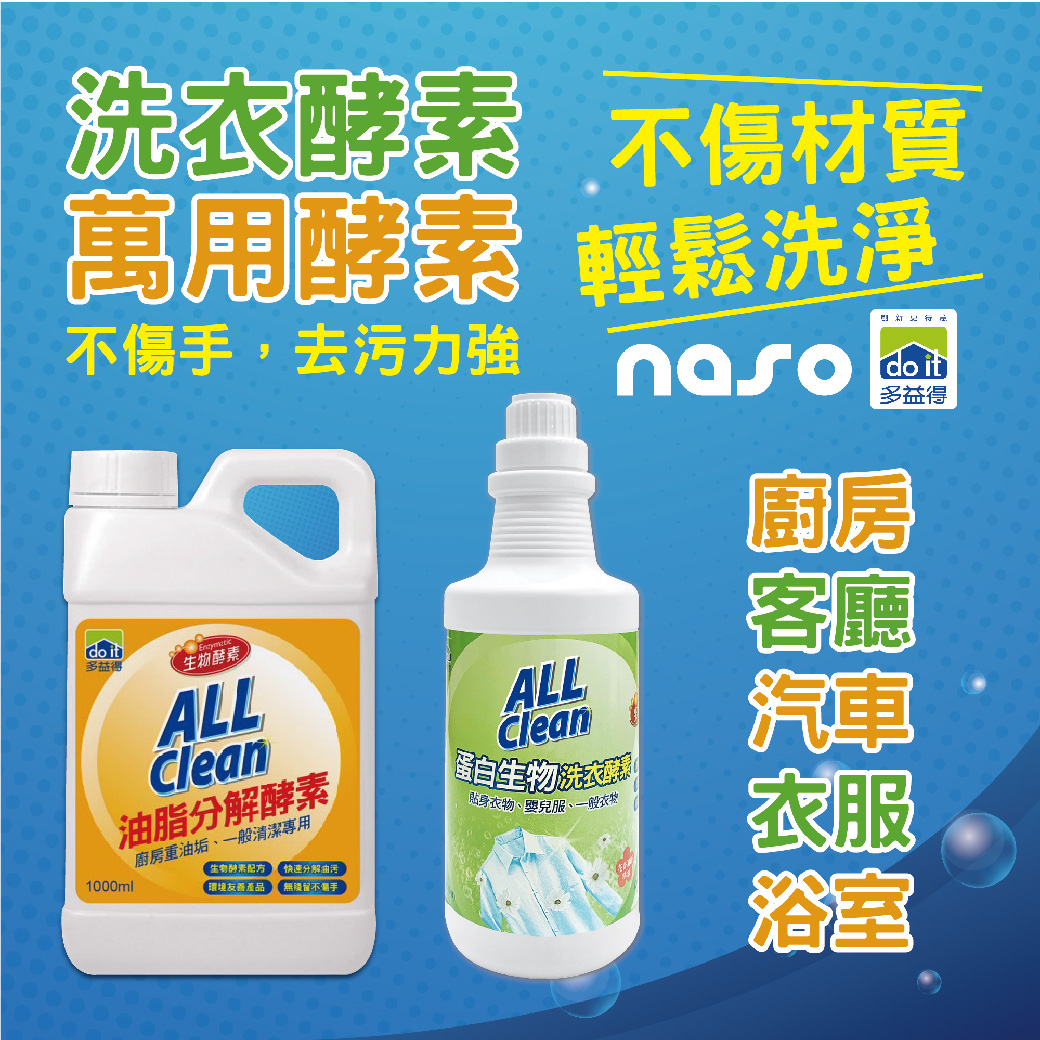cleaner: (57, 440, 395, 987), (430, 384, 662, 989)
